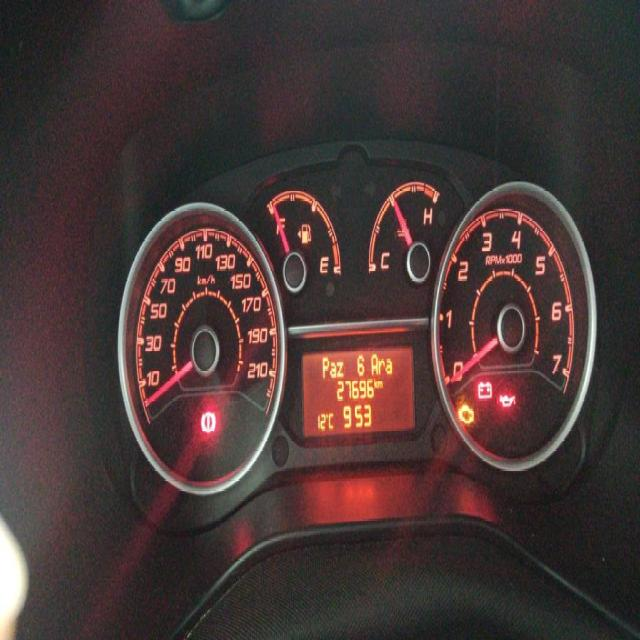odometer: (300, 341, 416, 442)
